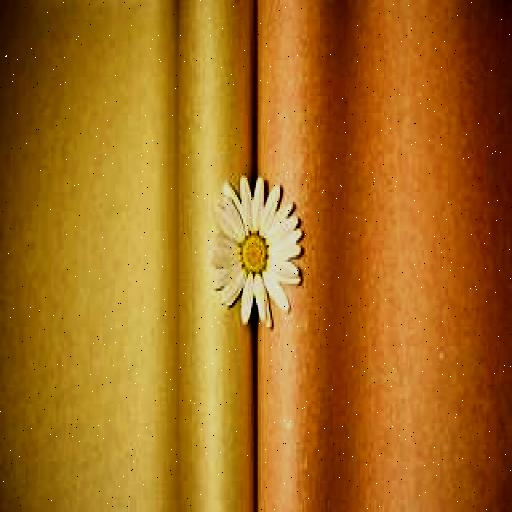daisy: (208, 182, 299, 324)
